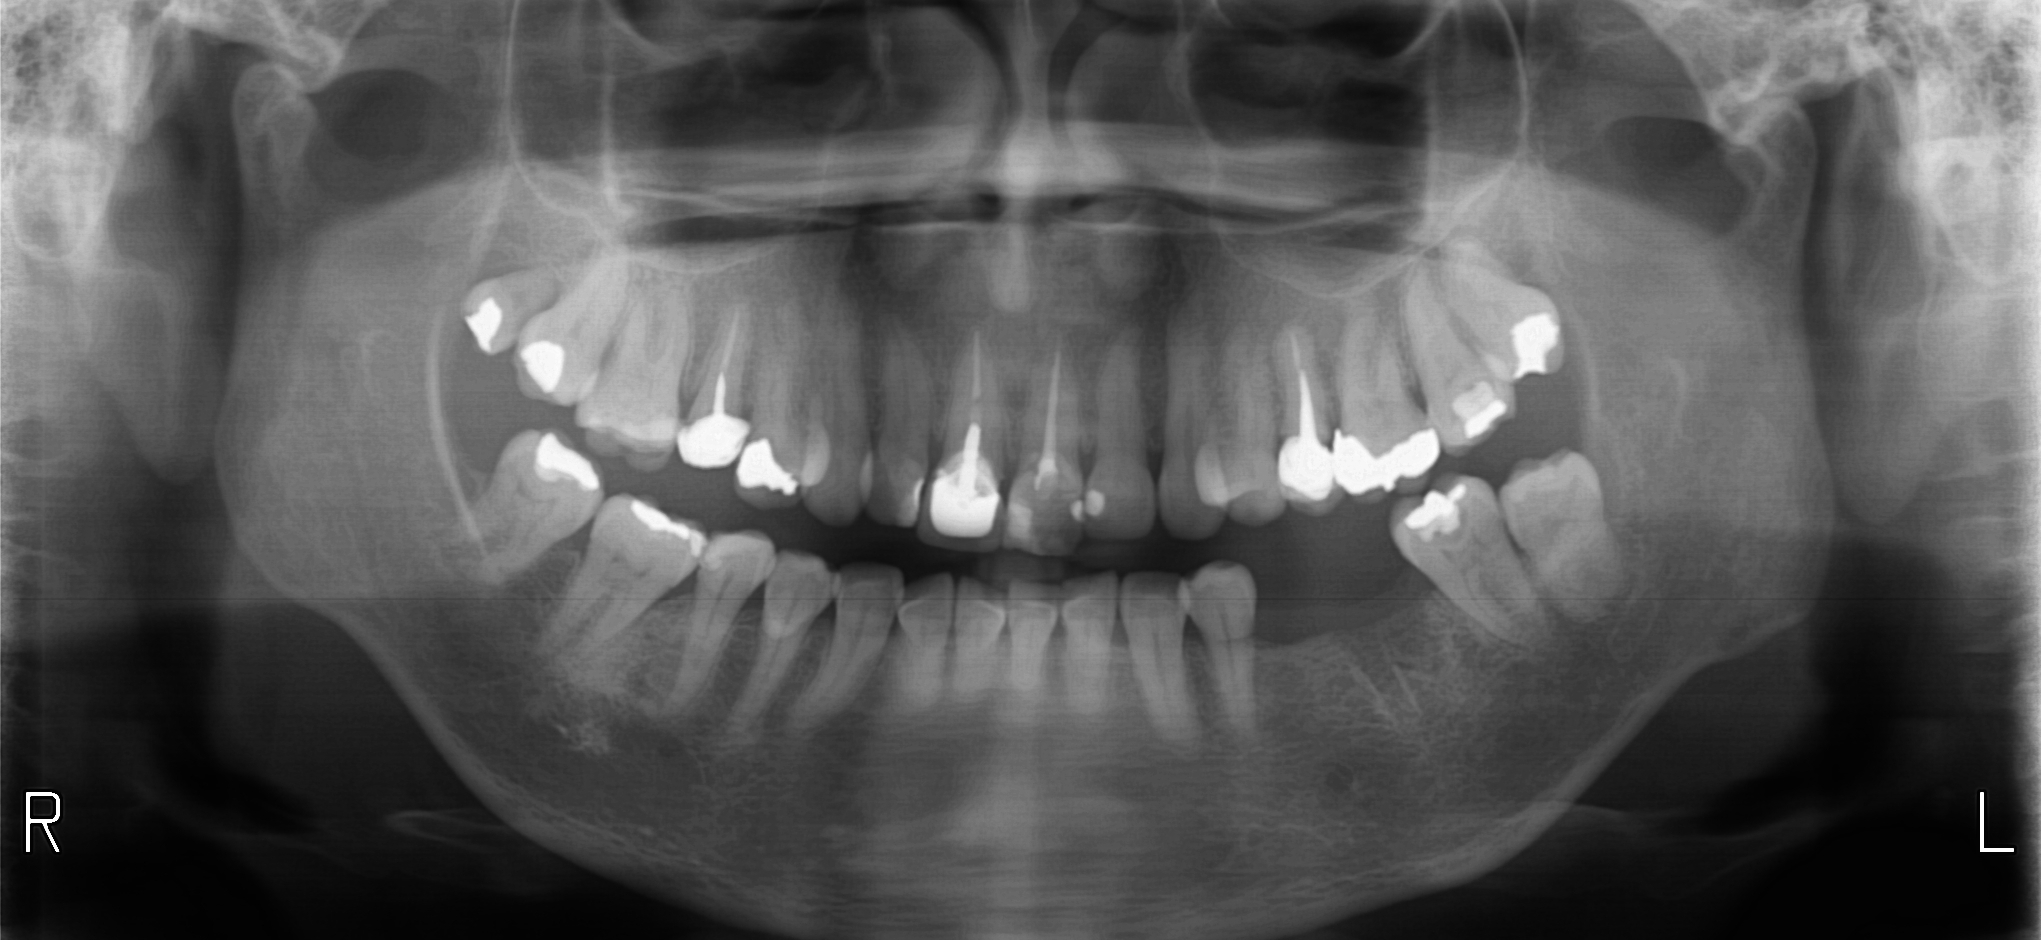cavity: (907, 579, 925, 599)
